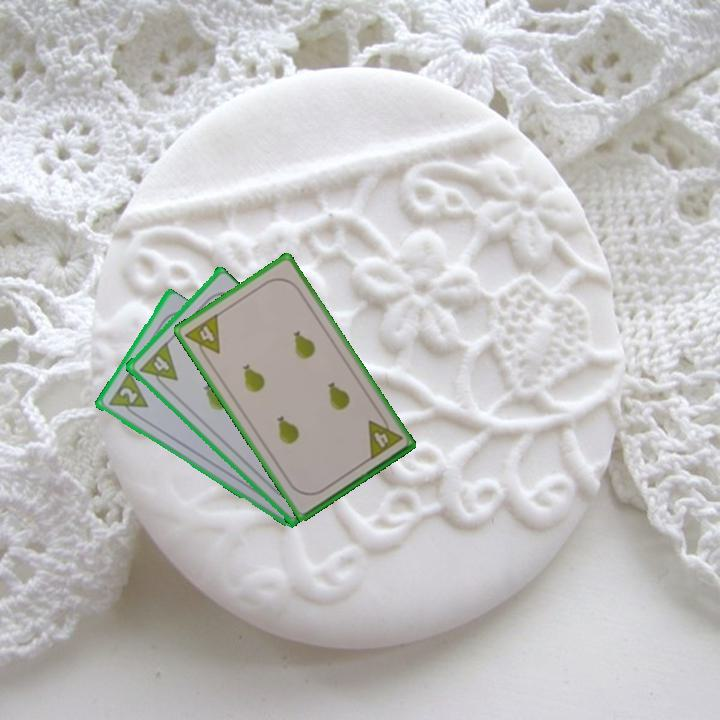2p: (115, 384, 140, 406)
4p: (135, 339, 180, 392), (181, 310, 223, 364), (364, 411, 405, 463)
